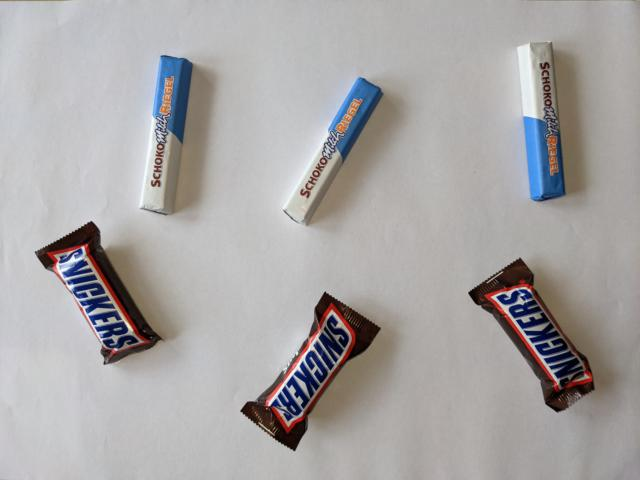Schokoriegel: (278, 74, 385, 230), (136, 53, 195, 220), (514, 39, 570, 204)
Snickers: (238, 291, 383, 453), (466, 255, 597, 414), (33, 219, 167, 367)
